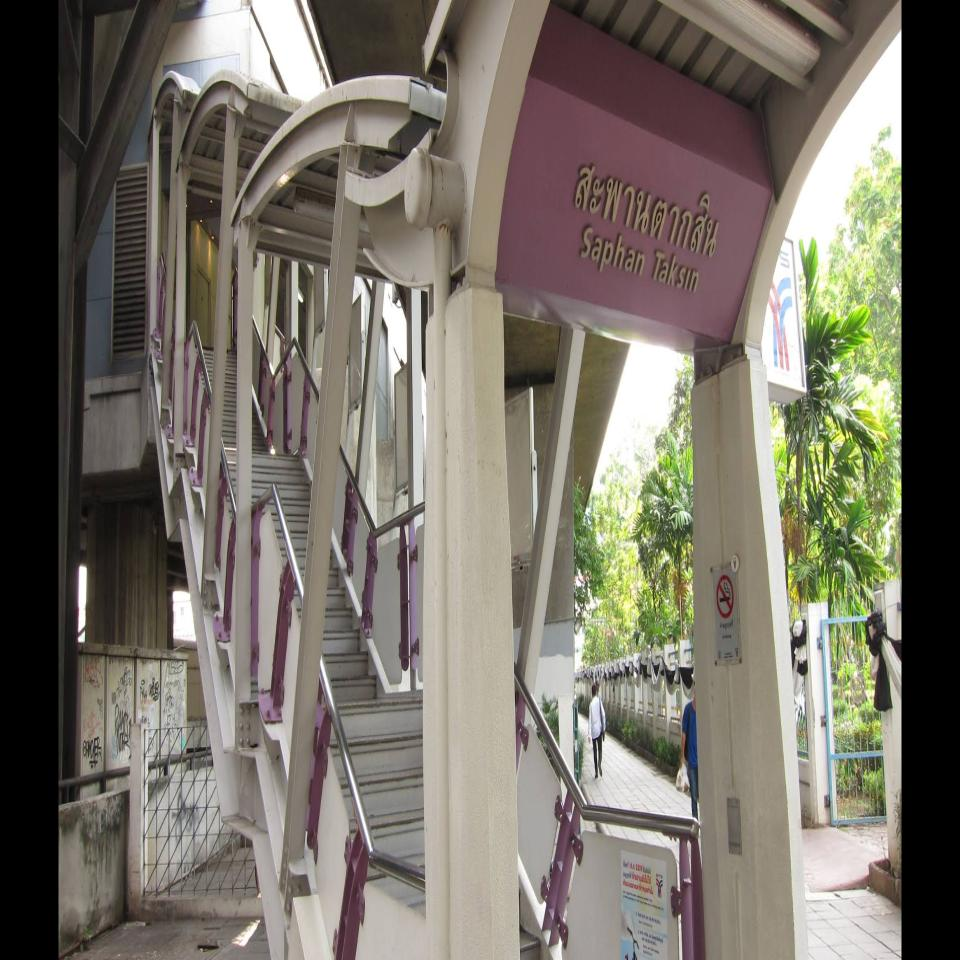Saphan Taksin: (496, 75, 806, 394), (496, 76, 773, 344)
